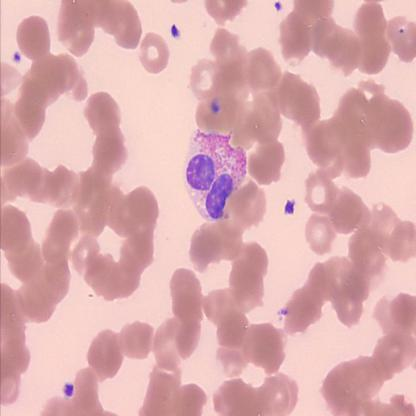Eosinophil: (184, 127, 250, 222)
